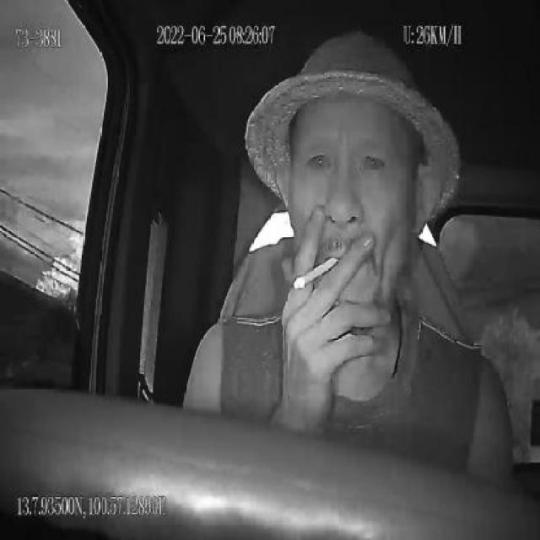smoking: (294, 256, 340, 289)
